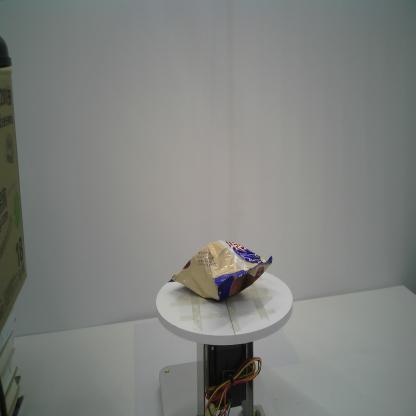Dessert: (167, 240, 273, 300)
